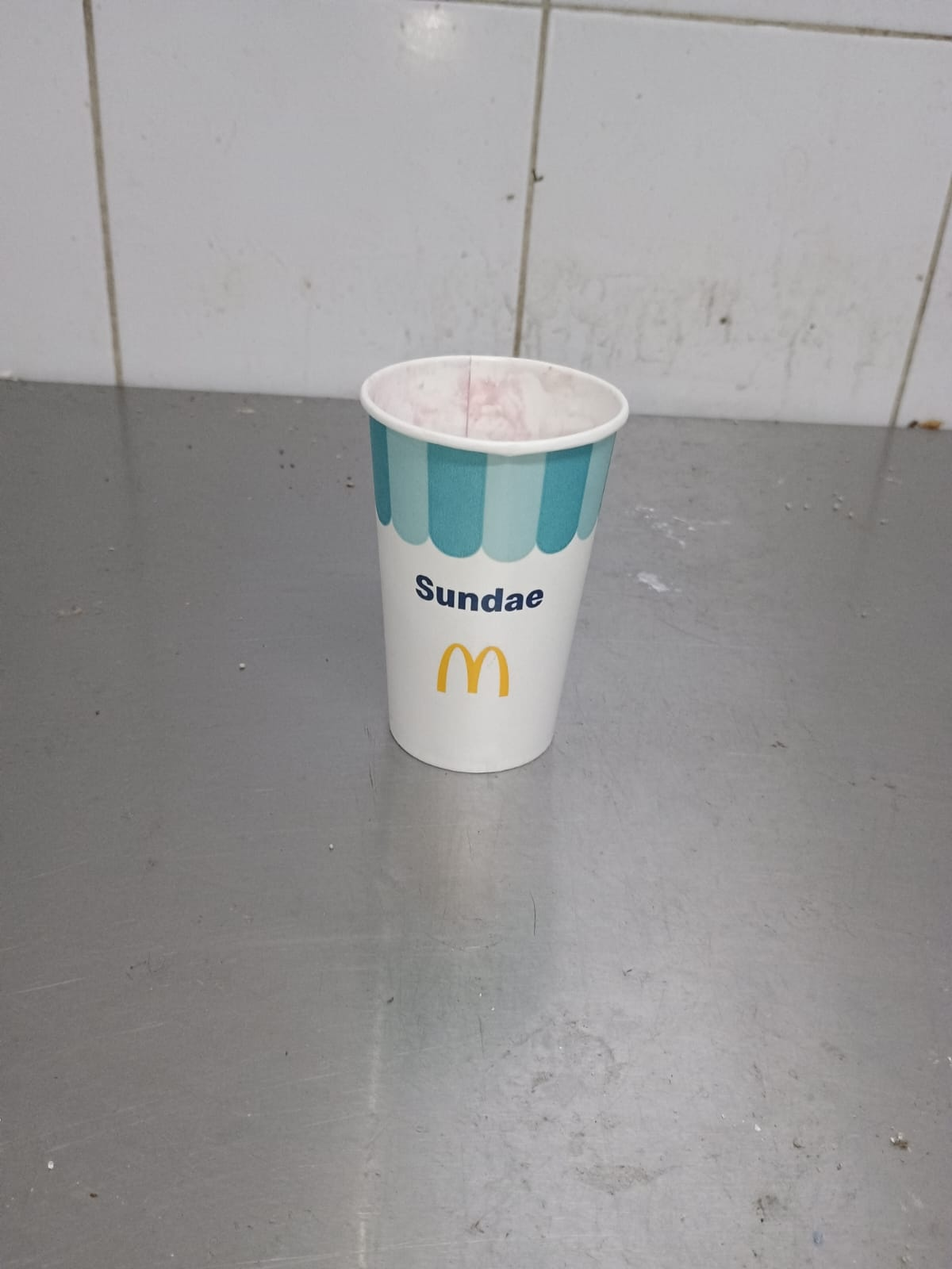Carton: (363, 354, 628, 773)
